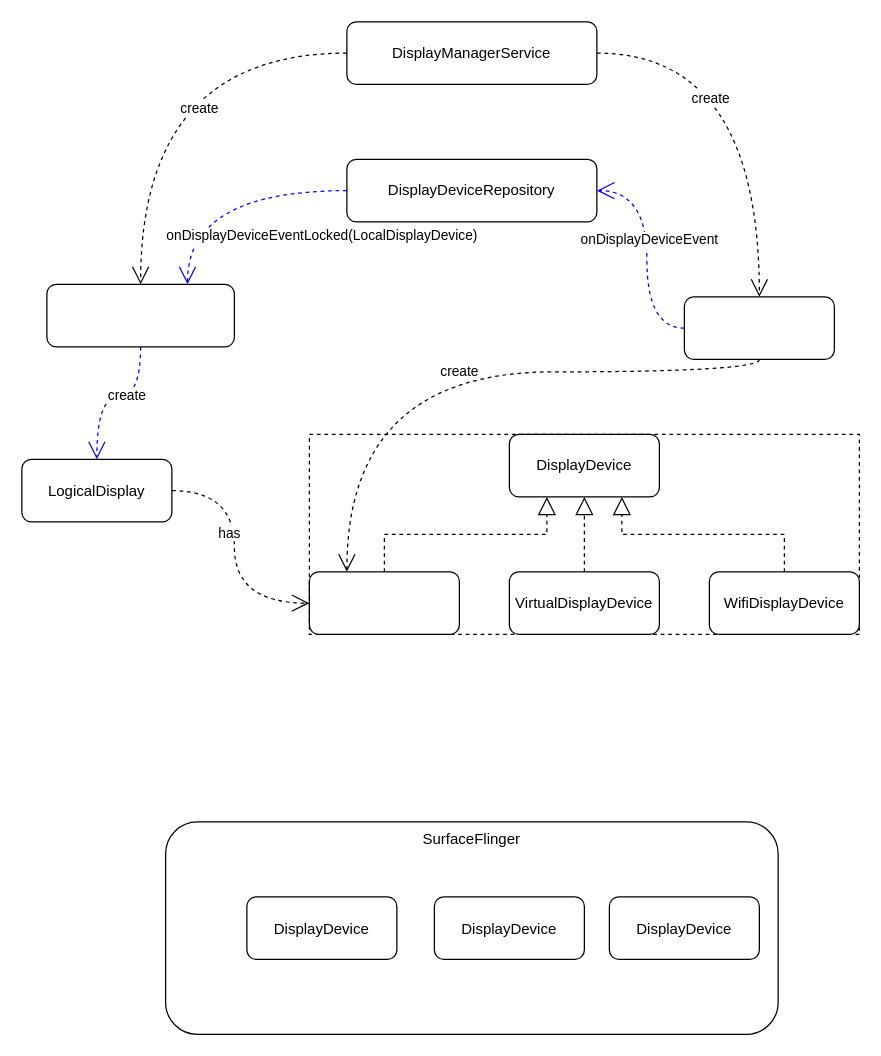
This 881x1056 diagram has some shape labels left out. The shapes that lost their labels are listed below. From the top down, each one's centre as x and y in pixels, then its label:
At point (140, 315): "LogicalDisplayMapper".
At point (758, 327): "LocalDisplayAdapter".
At point (383, 602): "LocalDisplayDevice".
